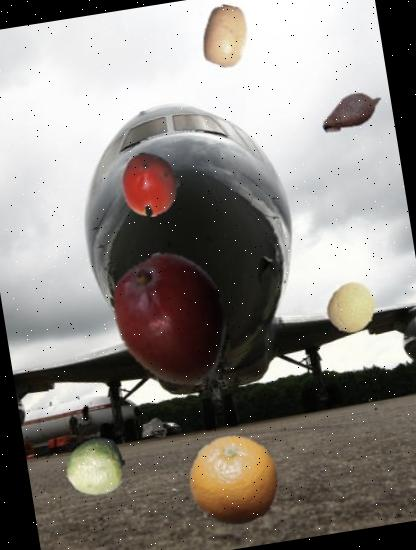Cantaloupe: (324, 278, 382, 337)
Kaki: (114, 147, 188, 221)
Kumquats: (190, 0, 262, 73)
Limes: (60, 432, 131, 503)
Mango: (92, 241, 252, 400)
Orange: (182, 429, 286, 533)
Salak: (314, 74, 390, 150)
